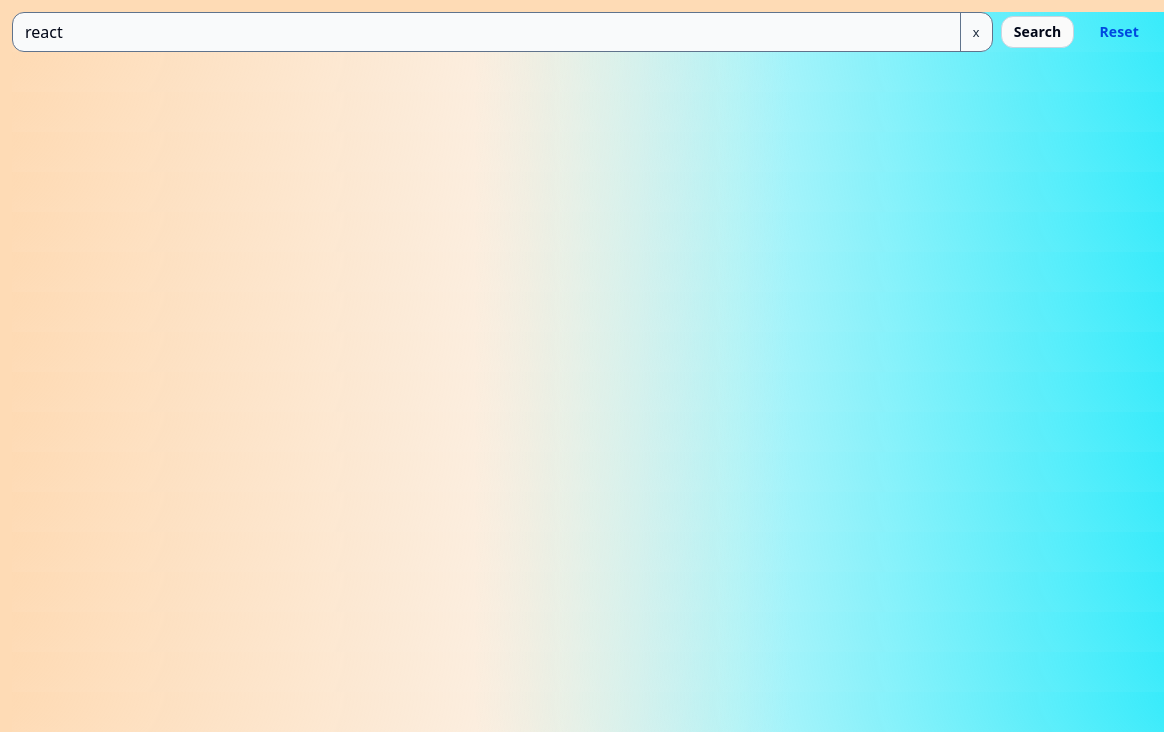
Test: FilterBar › сброс › очищает запрос и вызывает onQueryChange(""), onReset и onSearch("")
Click the button "Reset".
click(1119, 32)  # box [1086,16,1152,48]
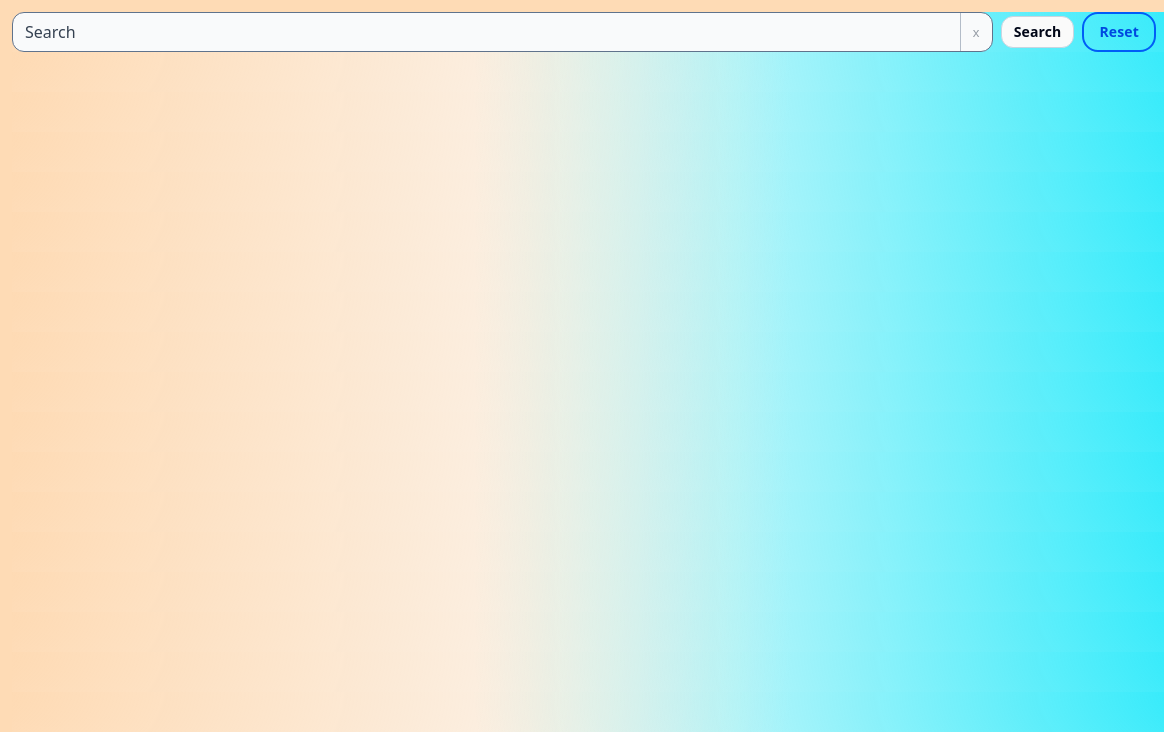
Check: the search field is empty, box [13,13,960,51]
